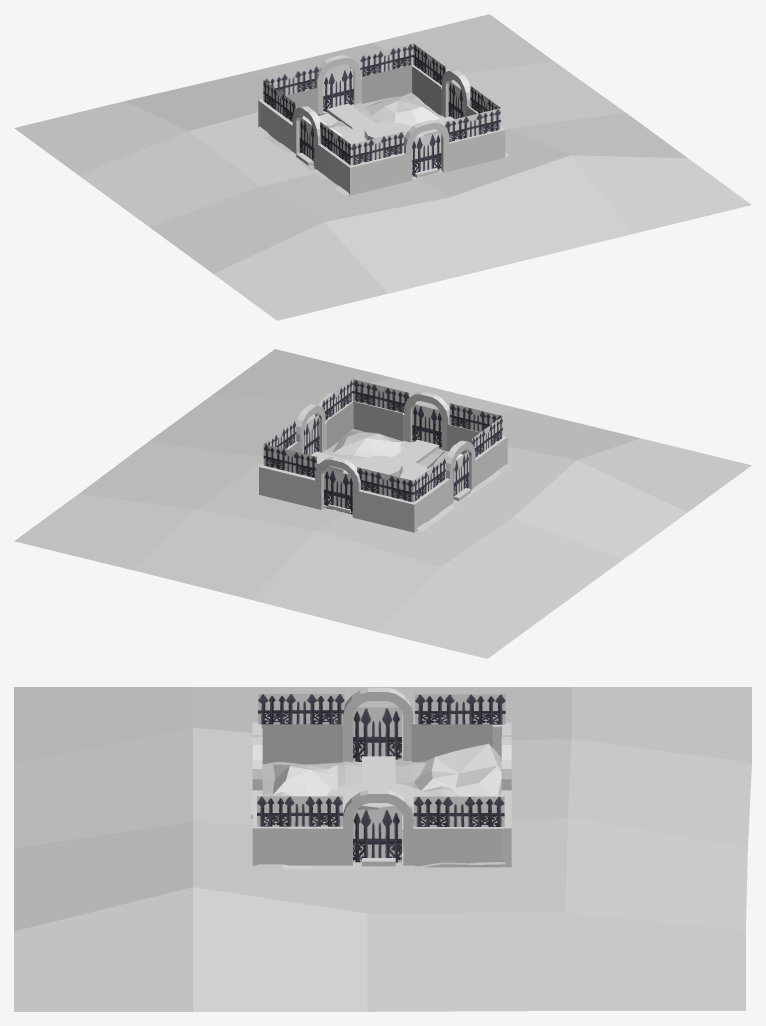
Rendered from witches_CourtYard.fbx.
The picture shows the model from 3 angles, top to bottom: view 1: azimuth 30°, elevation 25°; view 2: azimuth 150°, elevation 25°; view 3: azimuth 270°, elevation 25°; orthographic projection. The views are drawn at different scales.
Visible parts, largest first — view 1: Plane.019; view 2: Plane.019; view 3: Plane.019.
Part boxes in pixels (x1,y1,x2,y2): Plane.019: [14, 14, 751, 320]; Plane.019: [14, 349, 751, 658]; Plane.019: [14, 687, 751, 1011].
Bounding box in the file's own units: 90158 × 13918 × 86594.
